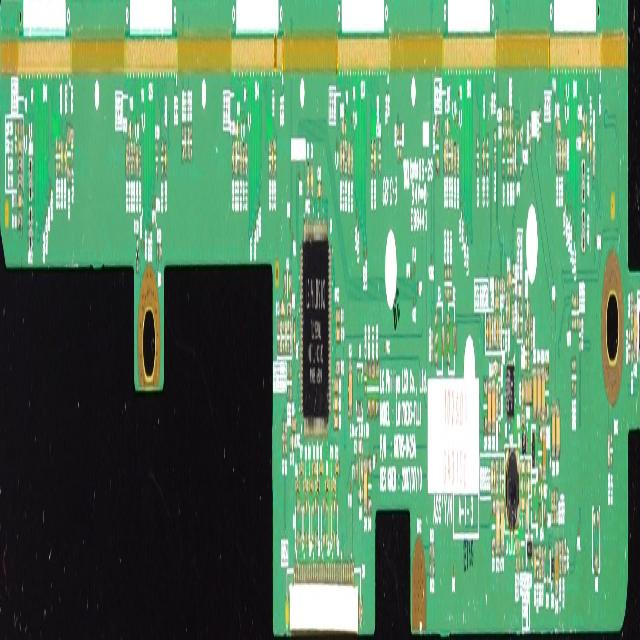Capacitor Jumper: (633, 301, 637, 359), (348, 361, 352, 418), (500, 498, 504, 555), (551, 404, 555, 460), (556, 405, 560, 460), (532, 367, 536, 420), (537, 367, 541, 420), (541, 367, 545, 420), (542, 427, 546, 480), (524, 381, 532, 404), (364, 458, 367, 516), (555, 540, 558, 598), (496, 499, 499, 556), (488, 382, 491, 435), (492, 382, 495, 435), (449, 265, 452, 303), (242, 145, 245, 179), (493, 462, 496, 496), (339, 138, 342, 171), (164, 144, 167, 177), (490, 462, 493, 494), (504, 124, 510, 140), (505, 106, 510, 124), (494, 132, 496, 170), (447, 266, 449, 304), (317, 184, 322, 199), (17, 192, 22, 207), (556, 118, 561, 133), (444, 136, 446, 173), (482, 139, 484, 176), (272, 141, 274, 178), (307, 162, 309, 199), (486, 138, 488, 174), (156, 142, 158, 178), (294, 318, 296, 354), (564, 541, 566, 577), (64, 140, 66, 175), (310, 162, 312, 197), (280, 302, 285, 316), (335, 310, 340, 324), (333, 378, 338, 392), (333, 396, 338, 410), (333, 414, 338, 428), (520, 462, 525, 476), (476, 140, 478, 174), (348, 142, 350, 176), (126, 142, 128, 176), (161, 144, 163, 178), (502, 144, 504, 178), (444, 267, 446, 301), (496, 315, 498, 349), (522, 378, 524, 412), (539, 108, 541, 142), (508, 292, 510, 325), (526, 499, 528, 532), (232, 142, 234, 174), (507, 272, 511, 288), (489, 315, 491, 347), (486, 318, 488, 350), (336, 326, 340, 342), (628, 330, 630, 362), (534, 548, 536, 580), (511, 108, 513, 140), (502, 108, 504, 140), (454, 142, 456, 173), (507, 145, 509, 176), (136, 147, 138, 178), (562, 140, 564, 170), (510, 146, 512, 176), (495, 295, 499, 309), (526, 460, 530, 474), (18, 138, 22, 152), (292, 420, 296, 433), (128, 123, 132, 136), (520, 498, 525, 508), (582, 114, 586, 126), (581, 133, 585, 145), (374, 138, 375, 174), (61, 141, 62, 174), (590, 132, 591, 165)
Connector: (286, 564, 362, 632)
IC: (300, 217, 331, 437), (506, 360, 514, 421)
Resistor Jumper: (156, 244, 162, 263), (429, 542, 432, 579), (396, 125, 399, 162), (399, 125, 402, 160), (574, 359, 576, 396), (277, 318, 279, 354), (284, 319, 286, 355), (499, 457, 501, 493), (538, 546, 540, 582), (494, 278, 499, 292), (500, 280, 505, 294), (282, 322, 284, 357), (630, 331, 632, 366), (525, 334, 527, 369), (282, 423, 284, 458), (295, 480, 300, 494), (550, 490, 552, 525), (562, 540, 564, 575), (556, 138, 558, 172), (133, 142, 135, 176), (128, 142, 130, 176), (630, 292, 632, 326), (506, 292, 508, 326), (572, 295, 574, 329), (574, 295, 576, 329), (527, 338, 529, 372), (572, 360, 574, 394), (608, 433, 610, 467), (556, 490, 558, 524), (518, 538, 520, 572), (559, 541, 561, 575), (432, 544, 434, 578), (541, 546, 543, 580), (558, 138, 560, 171), (139, 145, 141, 178), (136, 237, 138, 270), (431, 330, 433, 363), (284, 424, 286, 457), (610, 435, 612, 468), (554, 492, 556, 525), (536, 546, 538, 579), (529, 120, 531, 153), (564, 140, 566, 172), (499, 315, 501, 347), (494, 316, 496, 348), (496, 462, 498, 494), (512, 146, 514, 177), (492, 315, 494, 346), (498, 385, 500, 416), (286, 304, 292, 314), (578, 320, 580, 350), (324, 480, 330, 490), (512, 306, 514, 334), (515, 541, 517, 569), (520, 480, 525, 491), (520, 417, 526, 426), (315, 480, 320, 490), (299, 463, 303, 475), (312, 463, 316, 475), (493, 364, 497, 375), (526, 481, 530, 492), (319, 465, 323, 475), (303, 480, 307, 490), (309, 482, 313, 492), (513, 261, 514, 299), (290, 319, 291, 355), (280, 319, 281, 354), (131, 142, 132, 174), (503, 318, 504, 350), (496, 387, 497, 419), (577, 298, 578, 328), (531, 320, 532, 350)
